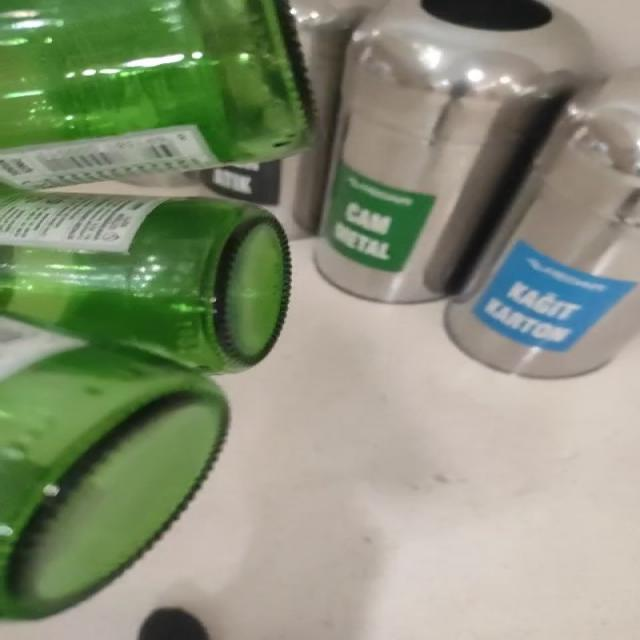glass: (0, 0, 311, 620)
